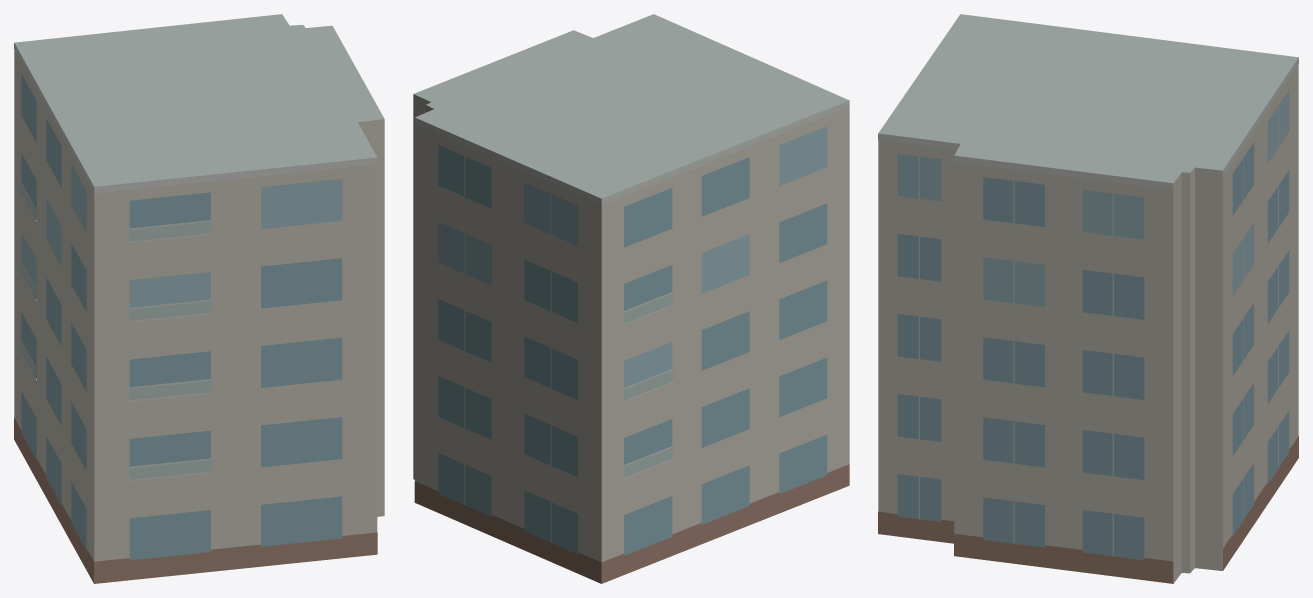
The model's file is survey-upis-32876907.glb.
3 renders of one model, left to right at view 1: azimuth 30°, elevation 25°; view 2: azimuth 150°, elevation 25°; view 3: azimuth 270°, elevation 25°, orthographic. The views are drawn at different scales.
Visible parts, largest first — view 1: survey-upis-32876907.tmp; view 2: survey-upis-32876907.tmp; view 3: survey-upis-32876907.tmp.
Part boxes in pixels (x1,y1,x2,y2): survey-upis-32876907.tmp: (14, 14, 384, 583); survey-upis-32876907.tmp: (413, 14, 849, 583); survey-upis-32876907.tmp: (878, 14, 1298, 583).
Size of the model in its own units: 13.06 by 14.4 by 13.72.
